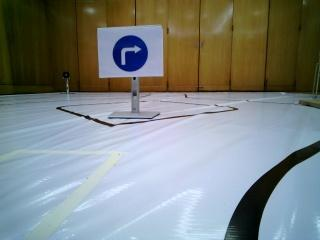right: (103, 35, 162, 81)
